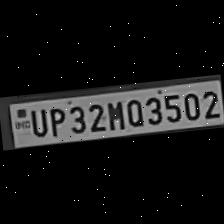0: (180, 88, 201, 120)
2: (197, 86, 220, 119), (84, 100, 106, 132)
3: (64, 102, 87, 134), (142, 92, 164, 125)
5: (161, 88, 182, 122)
M: (103, 96, 125, 132)
P: (45, 103, 66, 137)
Q: (122, 94, 146, 128)
U: (27, 104, 48, 138)
